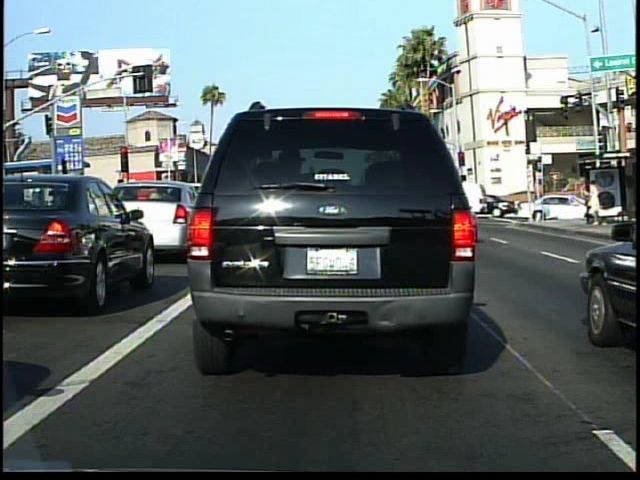person: (582, 174, 607, 228)
